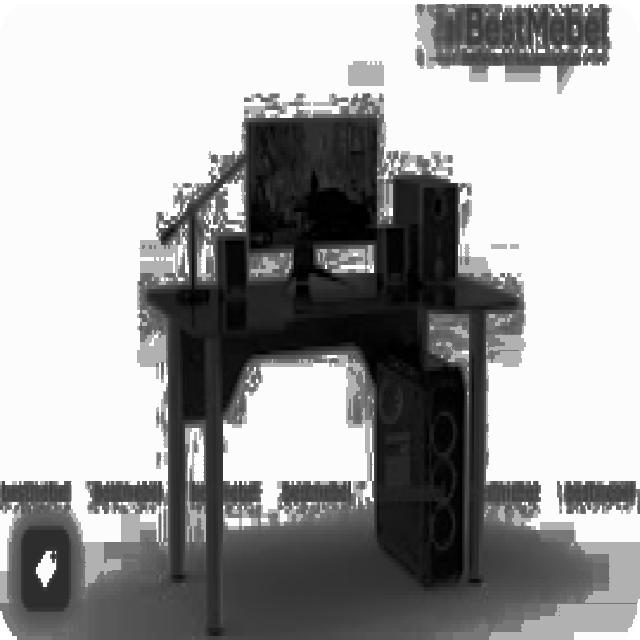table: (144, 269, 516, 632)
